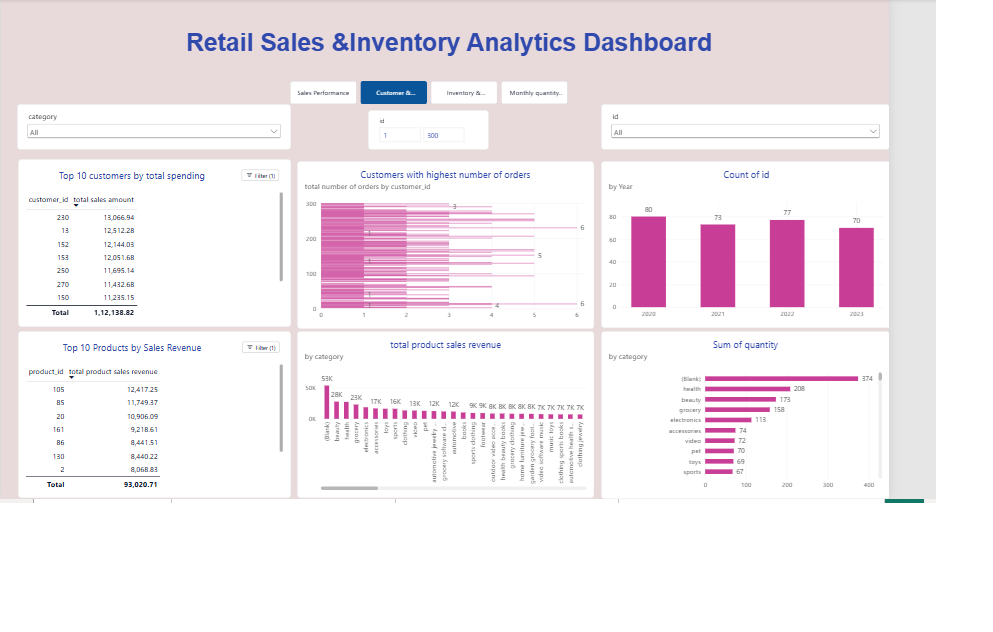

This screenshot's page, from the dashboard's own definition file:
{"tool":"powerbi","page":{"name":"Customer & Product Performance","canvas":[1920,1080],"ordinal":1},"visuals":[{"type":"textbox","box":[36.7,0,1857.6,157.7],"z":0},{"type":"tableEx","title":"Top 10 customers by total spending","fields":{"Values":["Orders.customer_id","Orders.total sales amount"]},"box":[36.7,345.6,589.7,362.9],"z":1000},{"type":"clusteredBarChart","title":"Customers with highest number of orders","fields":{"Category":["Orders.customer_id"],"Y":["Orders.total number of orders"]},"box":[639.4,349.9,641.5,362.9],"z":2000},{"type":"clusteredColumnChart","fields":{"Category":["customers.created_at.Variation.Date Hierarchy.Year"],"Y":["CountNonNull(customers.id)"]},"box":[1296,349.9,628.6,360.7],"z":3000},{"type":"tableEx","title":"Top 10 Products by Sales Revenue","fields":{"Values":["Order_items.product_id","Order_items.total product sales revenue"]},"box":[37.8,717.9,590,361],"z":4000},{"type":"columnChart","fields":{"Category":["Products.category"],"Y":["Order_items.total product sales revenue"]},"box":[638.9,717.9,642.3,360.6],"z":5000},{"type":"pageNavigator","box":[625.3,176.4,600,50],"z":6000},{"type":"slicer","fields":{"Values":["Products.category"]},"box":[34.6,226.8,591.8,99.4],"z":7000},{"type":"slicer","fields":{"Values":["customers.id"]},"box":[1296,226.8,624.2,99.4],"z":8000},{"type":"clusteredBarChart","fields":{"Category":["Products.category"],"Y":["Sum(Order_items.quantity)"]},"box":[1296,717.1,624.2,362.9],"z":9000},{"type":"slicer","fields":{"Values":["customers.id"]},"box":[792.7,239.8,261.4,86.4],"z":9001}]}

Visuals, with their boxes on the page's 1920x1080 design canvas (x1, y1, x2, y2). These are canvas units, not pixel positions in the 993x632 screenshot, which may show the page scaled, cropped or inside an application window:
textbox: l=37, t=0, r=1894, b=158
"Top 10 customers by total spending" tableEx: l=37, t=346, r=626, b=708
"Customers with highest number of orders" clusteredBarChart: l=639, t=350, r=1281, b=713
clusteredColumnChart - customers.created_at.Variation.Date Hierarchy.Year x CountNonNull(customers.id): l=1296, t=350, r=1925, b=711
"Top 10 Products by Sales Revenue" tableEx: l=38, t=718, r=628, b=1079
columnChart - Products.category x Order_items.total product sales revenue: l=639, t=718, r=1281, b=1078
pageNavigator: l=625, t=176, r=1225, b=226
slicer - Products.category: l=35, t=227, r=626, b=326
slicer - customers.id: l=1296, t=227, r=1920, b=326
clusteredBarChart - Products.category x Sum(Order_items.quantity): l=1296, t=717, r=1920, b=1080
slicer - customers.id: l=793, t=240, r=1054, b=326
